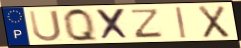I: (174, 6, 188, 39)
Q: (61, 7, 100, 43)
U: (27, 9, 64, 43)
X: (95, 7, 132, 41), (197, 5, 231, 39)
Z: (131, 8, 164, 39)
